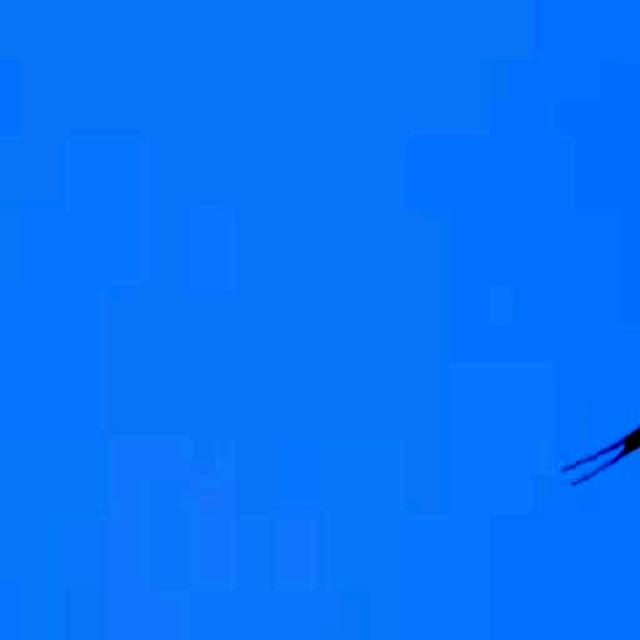airplane: (572, 209, 640, 506)
